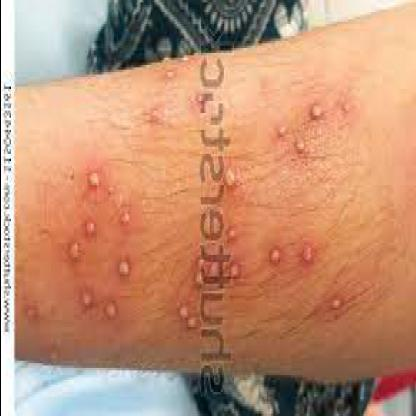Fire ant: (67, 156, 134, 334), (174, 222, 249, 354), (134, 55, 216, 130), (273, 92, 353, 164), (263, 233, 320, 279), (214, 154, 244, 200), (324, 288, 352, 322), (22, 296, 40, 330), (46, 348, 64, 370)
